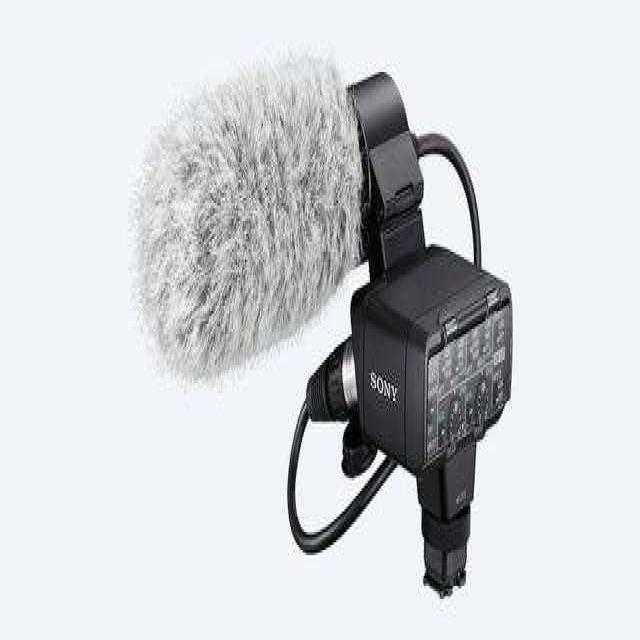microphone: (126, 53, 472, 398)
